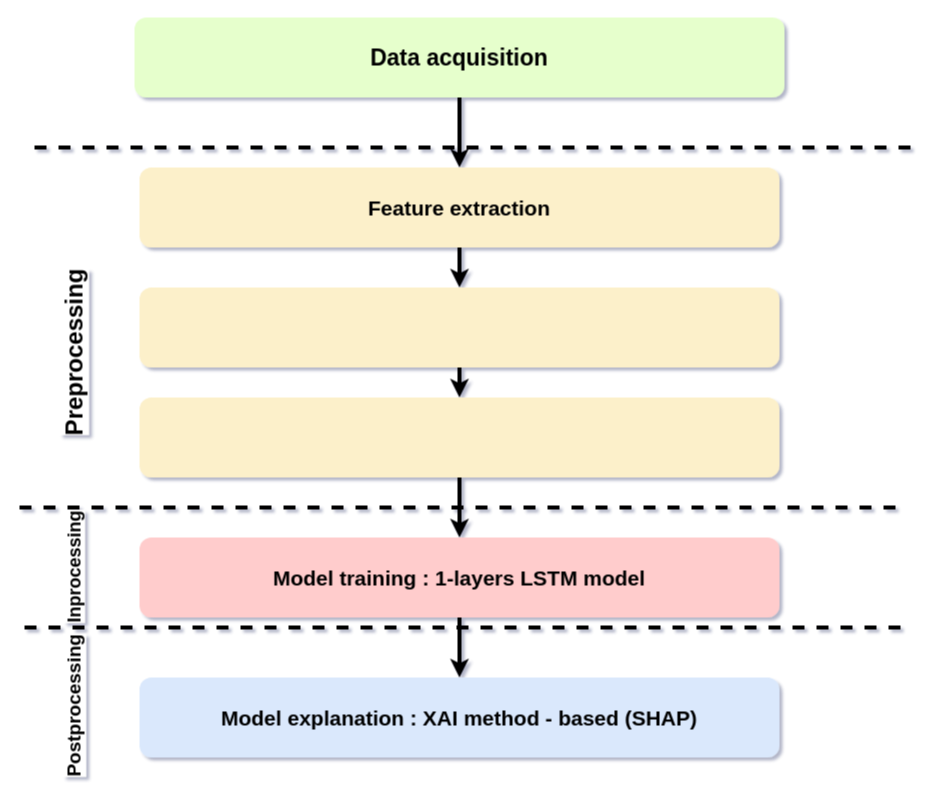
Some shapes in this 940 by 801 pixel diagram are drawn without their labels. The box of each missing label's shape, as (x1, y1, x2, y2) in pixels:
Feature preprocessing : Normalization & Data smothing: (139, 287, 779, 367)
Interpretable FC (dimensional reduction): (139, 397, 779, 477)
